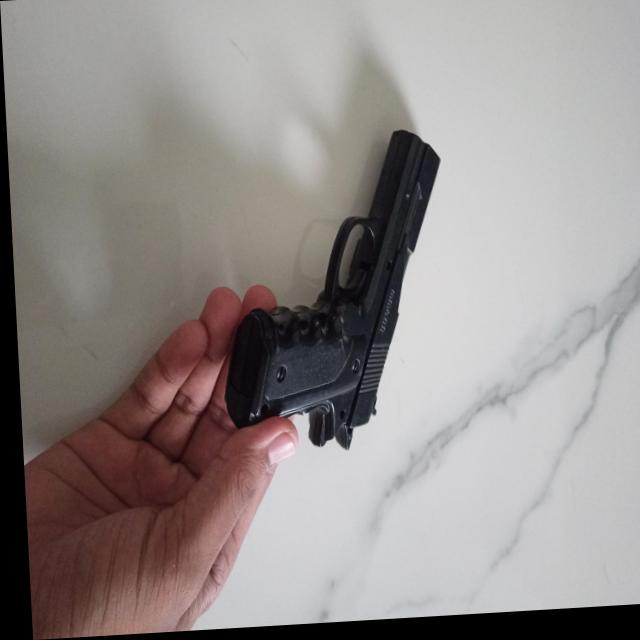handgun: (213, 129, 451, 460)
